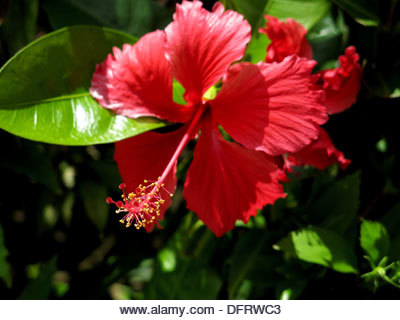Hibiscus: (93, 1, 355, 227)
